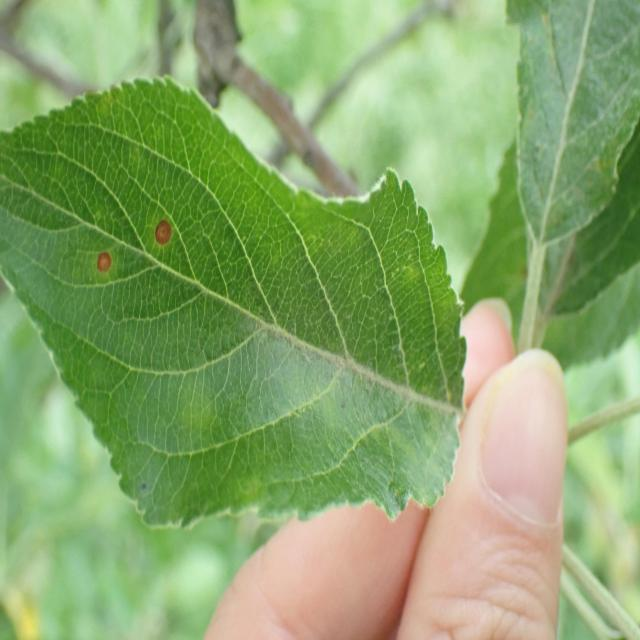frog-eye-leaf-spot: (0, 73, 468, 532)
